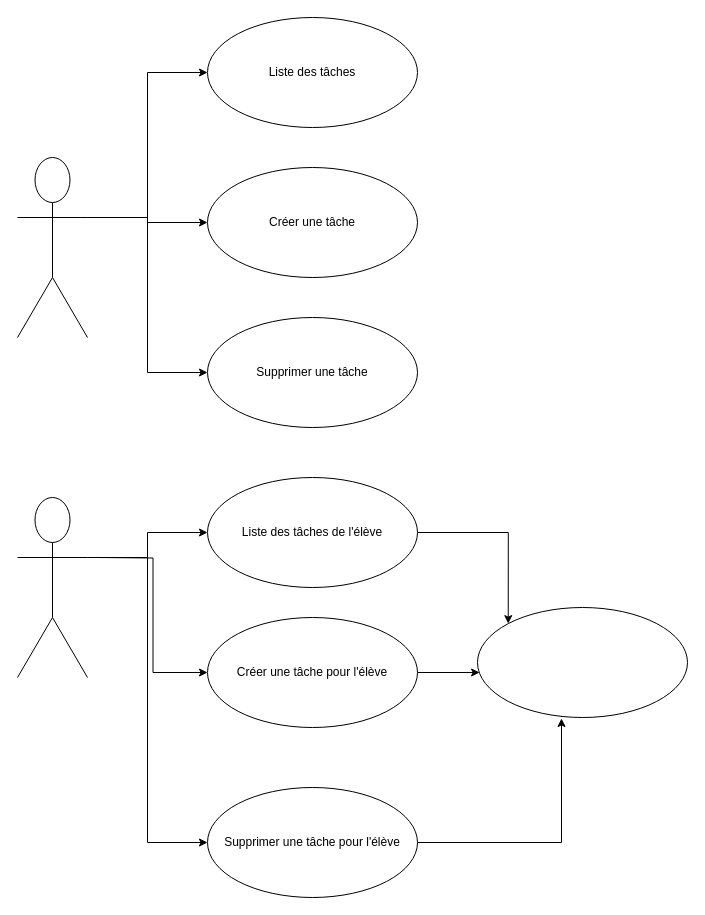
Image size: 705x915. Some labels were removed from this diagram. The centre of each missing label's shape, as x and y in pixels:
Elève: (52,247)
Enseignant: (52,587)
Envoie d'une notification à l'élève: (582,662)
